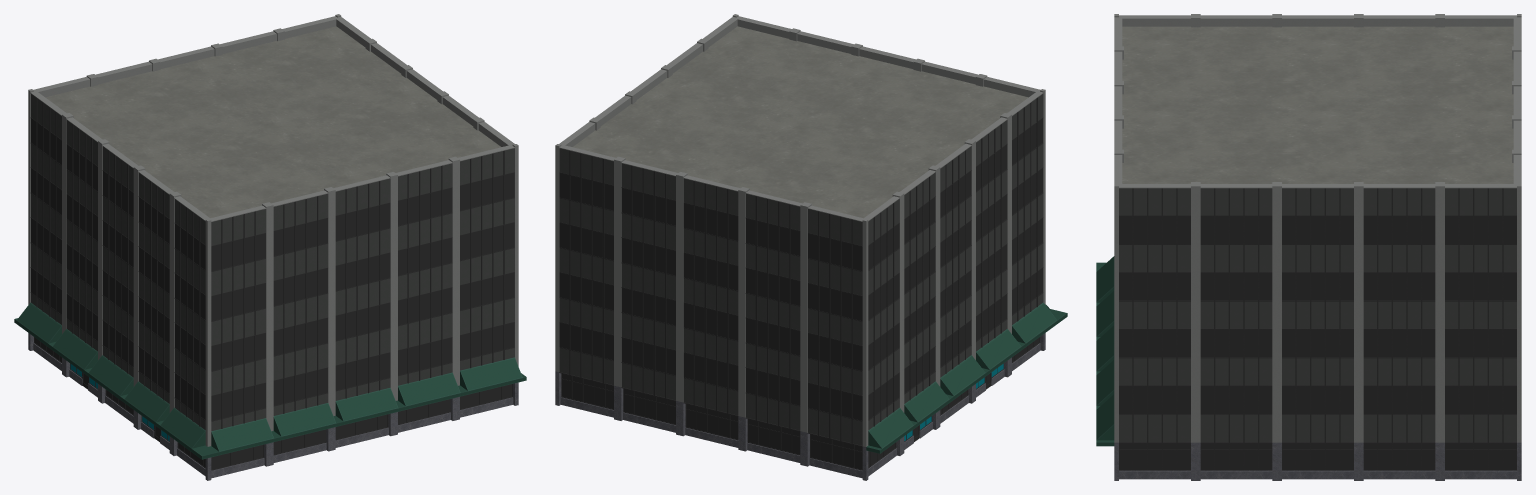
3 views of the same model, side by side, from view 1: azimuth 30°, elevation 25°; view 2: azimuth 150°, elevation 25°; view 3: azimuth 270°, elevation 25° (orthographic). The views are drawn at different scales.
Visible parts, largest first — view 1: Building_511_Square_6; view 2: Building_511_Square_6; view 3: Building_511_Square_6.
Boxes of the visible parts, x1,y1,x2,y2 form: Building_511_Square_6: (14,14,526,480); Building_511_Square_6: (555,14,1067,480); Building_511_Square_6: (1096,14,1521,480).
Size of the model in its own units: 28.72 by 21.95 by 28.72.
4 materials, 4 textured.
